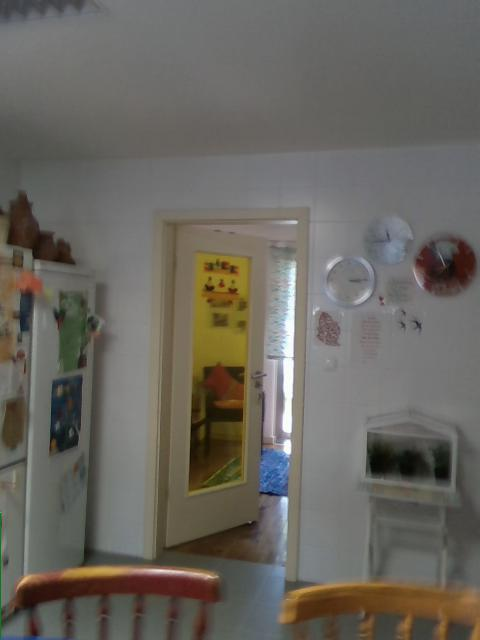semi_door: (141, 203, 311, 584)
